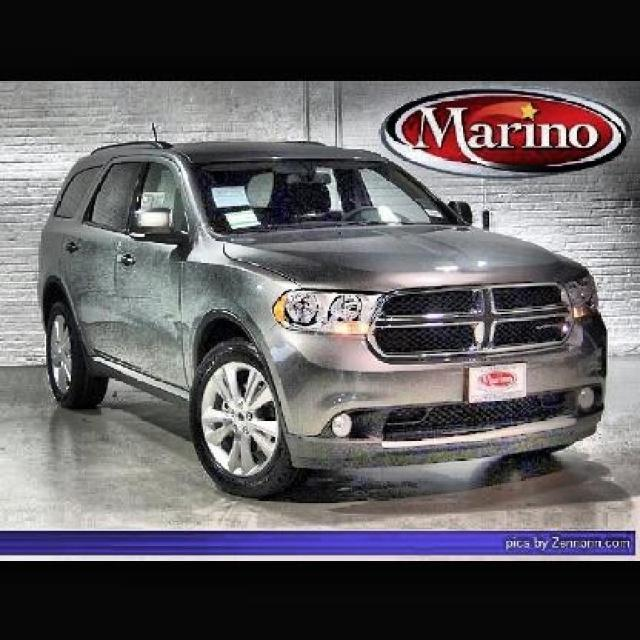black: (38, 145, 606, 492)
